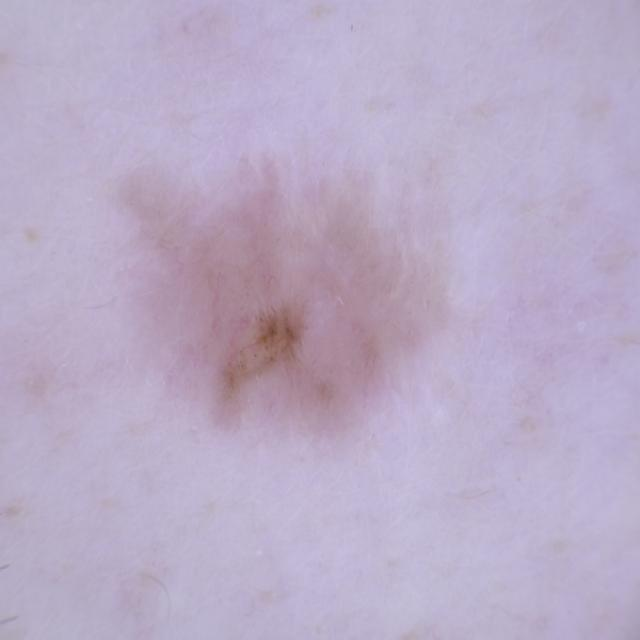Skin-Cancer Basal cell carcinoma: (43, 74, 531, 551)
